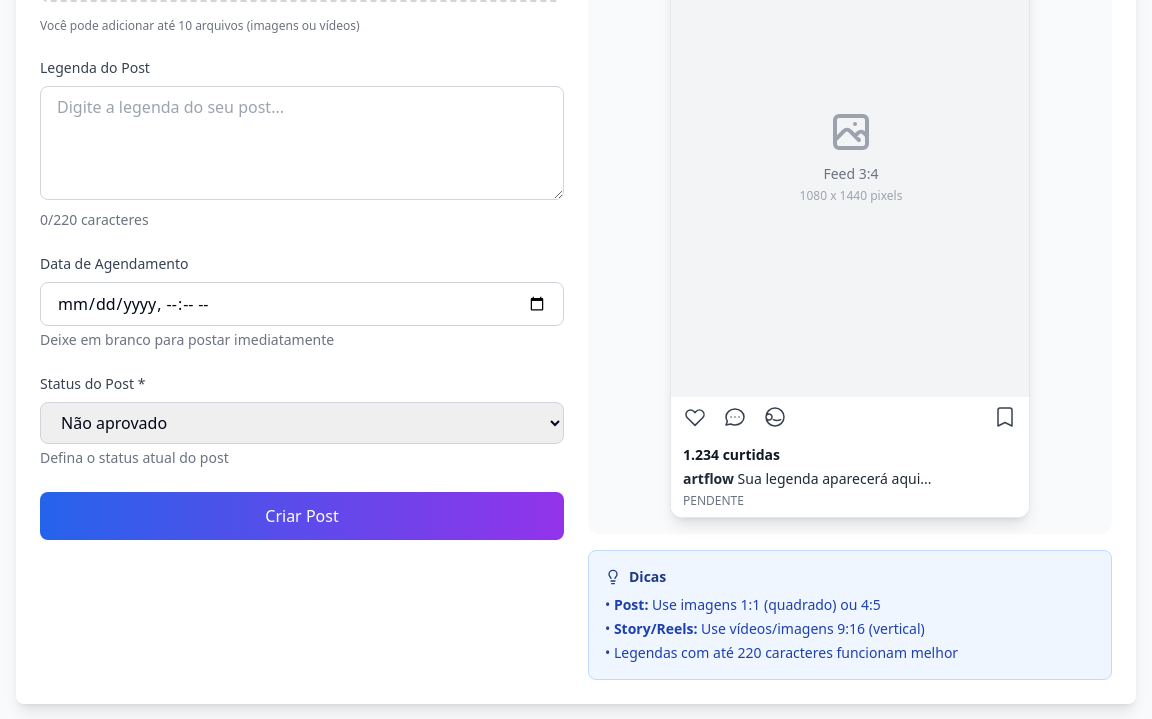
Test: PostForm Component › Form Validation › should show validation error when cliente not selected
(page scrolled)
Click the button "Criar Post".
click(302, 516)  # box [40,492,564,540]
(page scrolled)
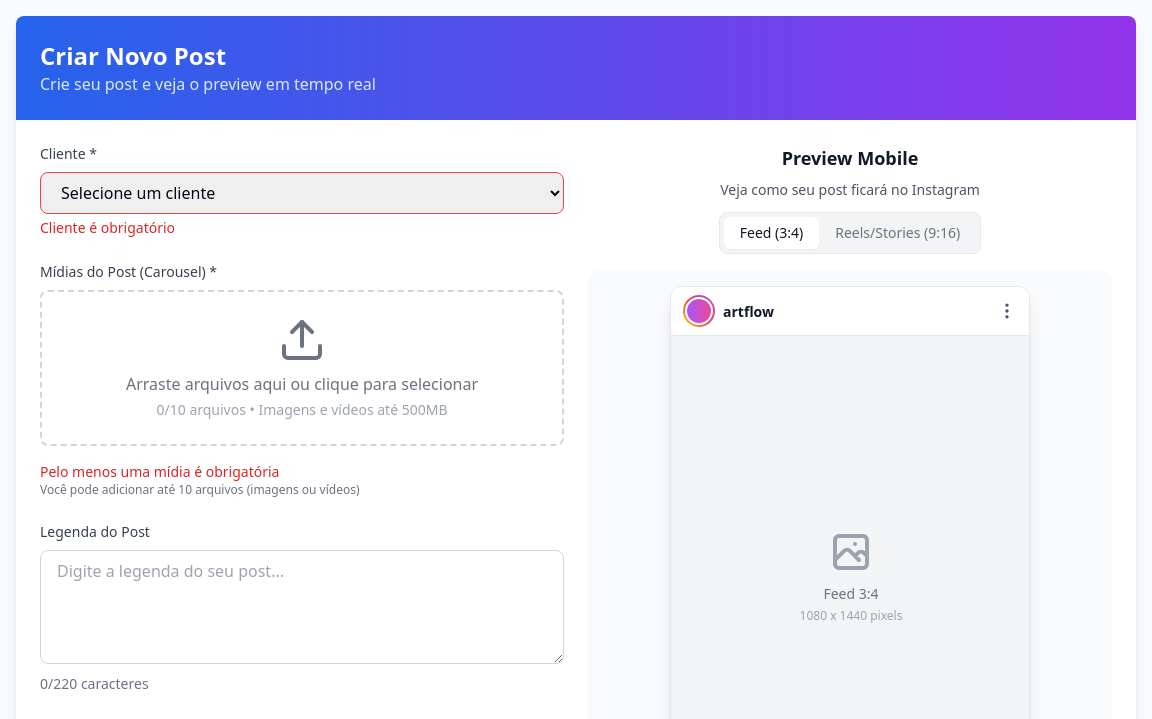
expect the text "Cliente é obrigatório" is shown: met, box [40,218,175,237]
